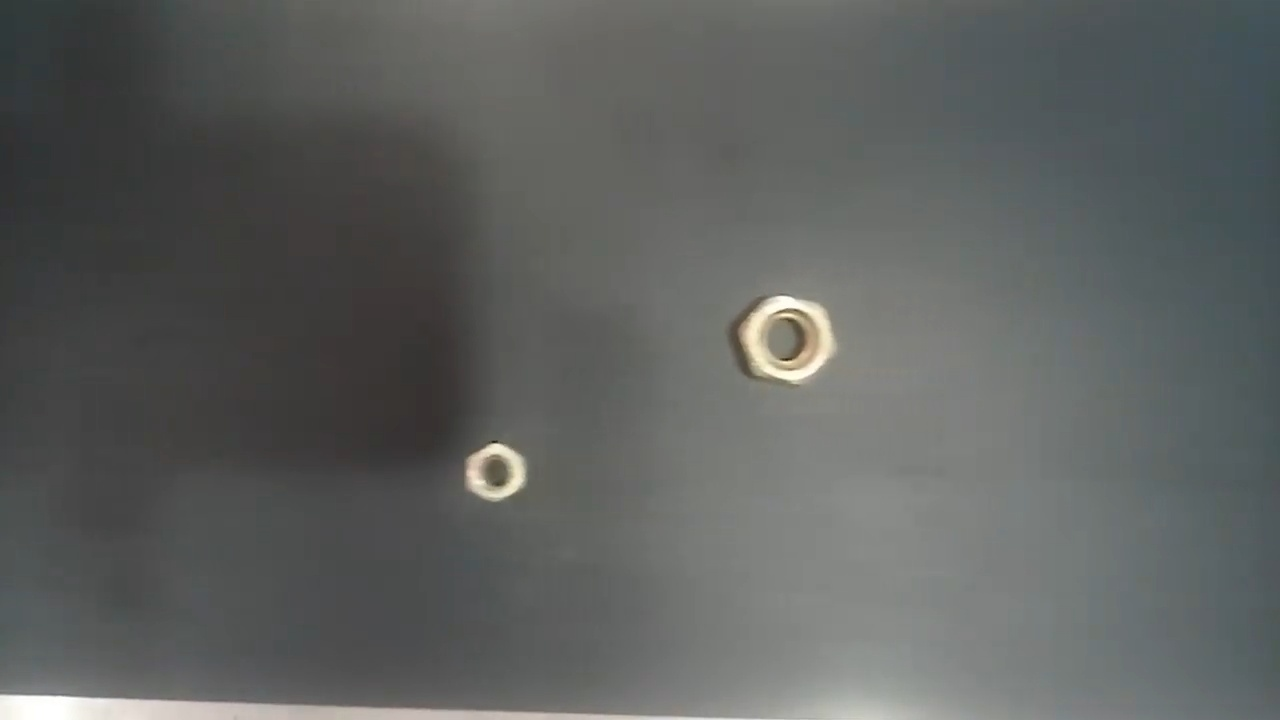Bolt: (732, 292, 839, 387), (461, 441, 531, 507)
